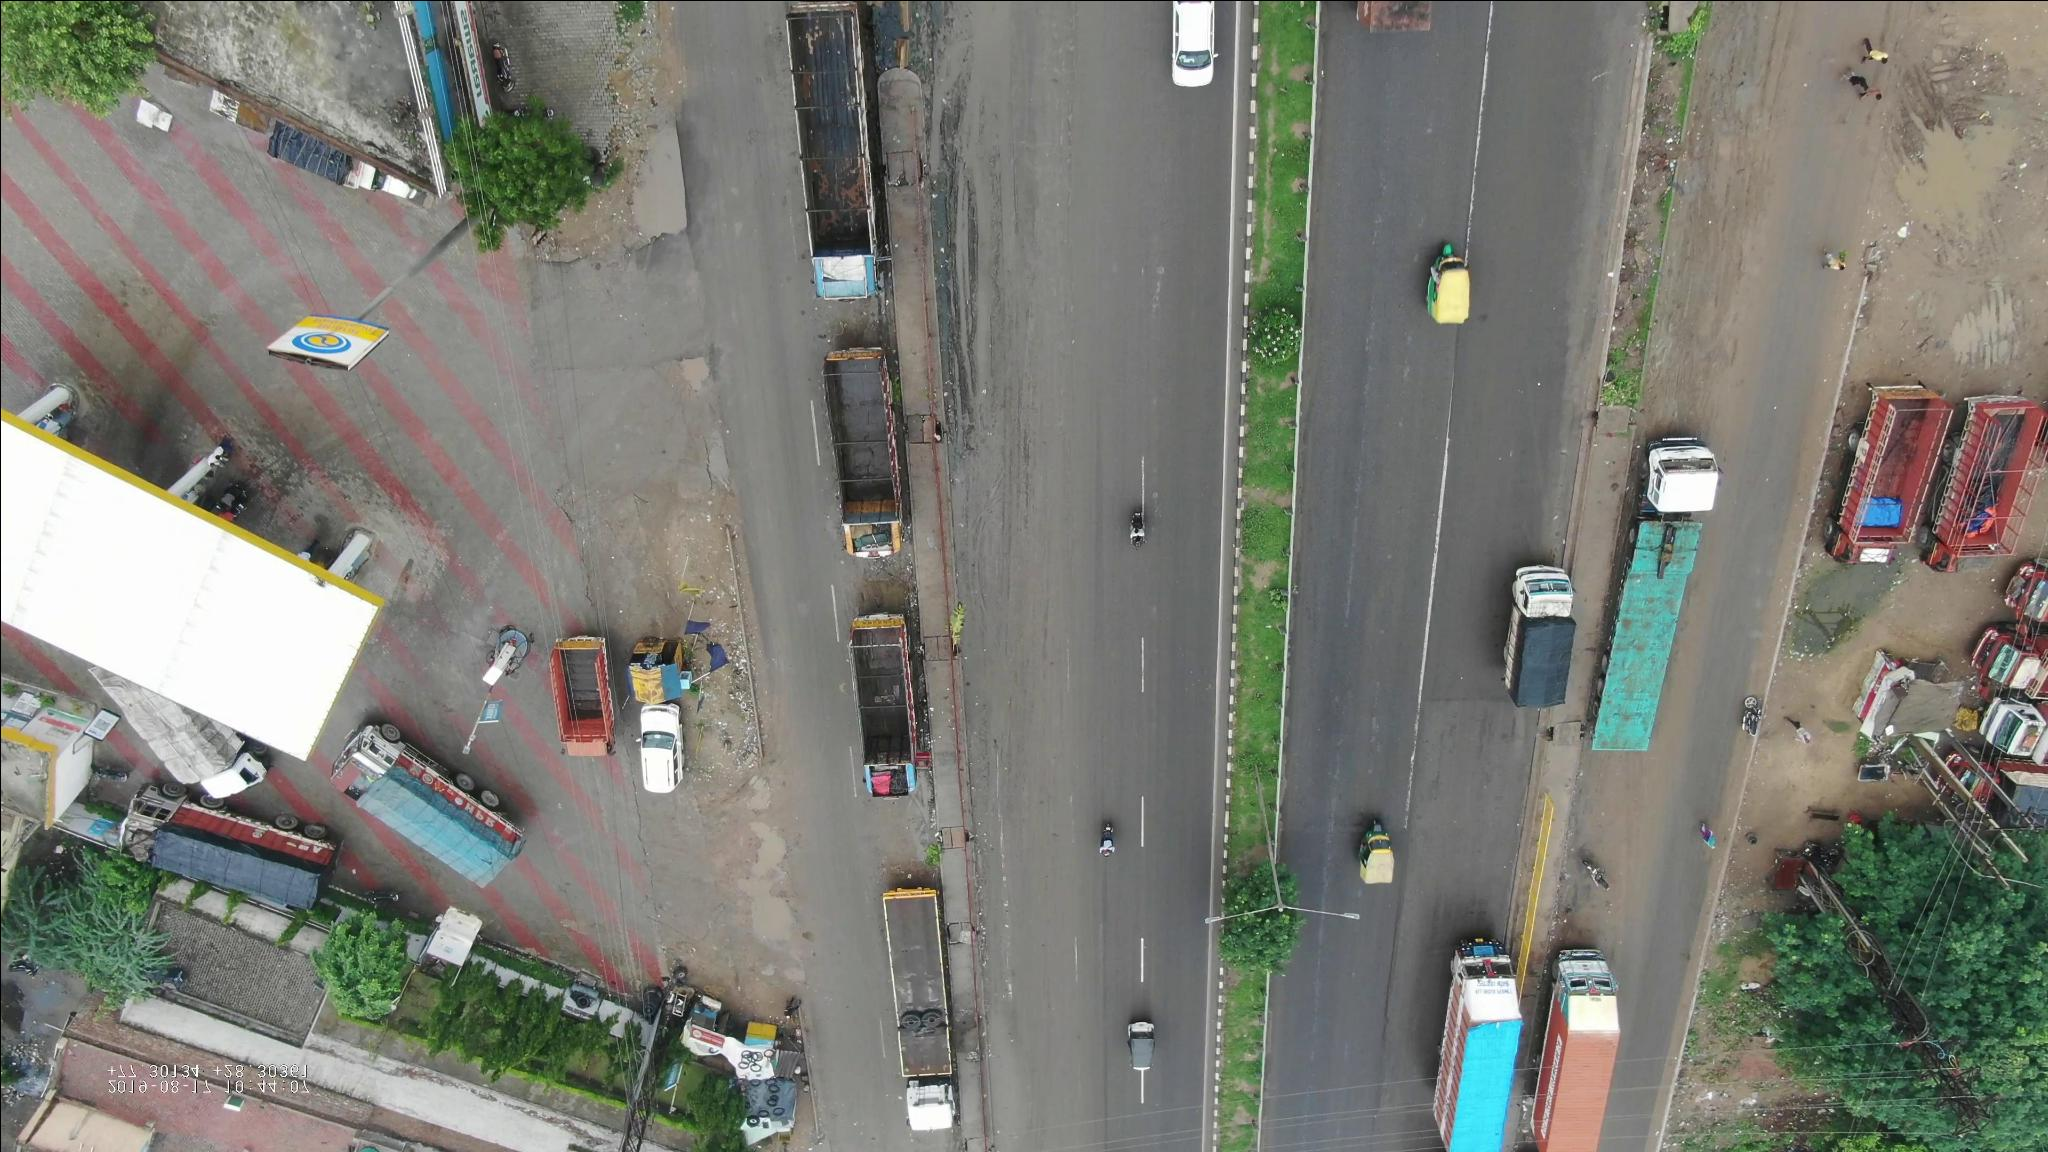Muddy_road: (1643, 32, 1772, 369), (959, 491, 1049, 731), (942, 188, 1020, 453), (980, 776, 1052, 1016), (1567, 775, 1627, 934)
Potholes: (1348, 665, 1400, 795), (672, 340, 729, 430)
Waterlogging: (729, 789, 810, 973)
